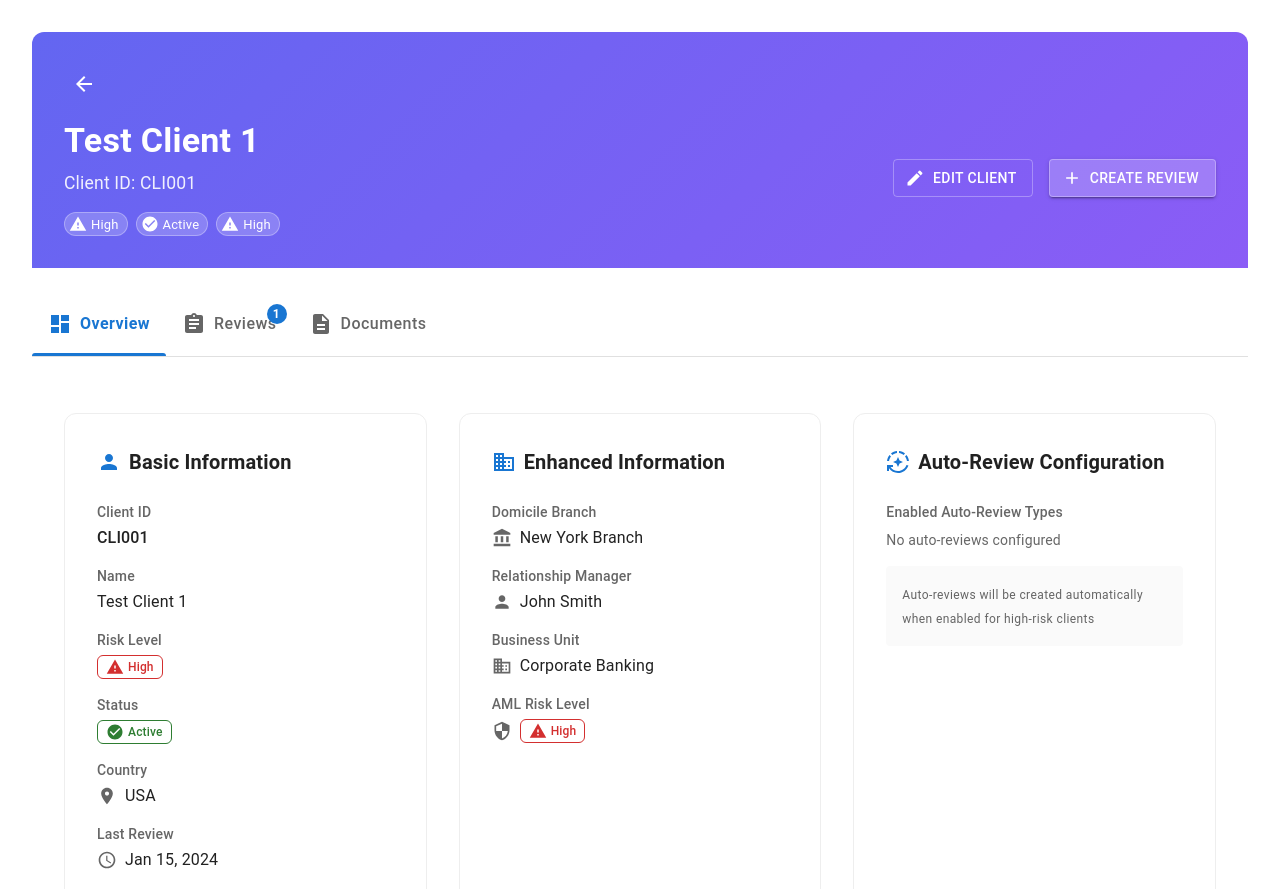
Enhanced Client Components - Requirements Testing › ClientDetail - Enhanced Information Display (Requirements 1.1-1.5) › cancels editing without saving changes
The width and height of the screenshot is (1280, 889).
Click the button "Edit Client" at (963, 178), box left=893, top=159, right=1033, bottom=197
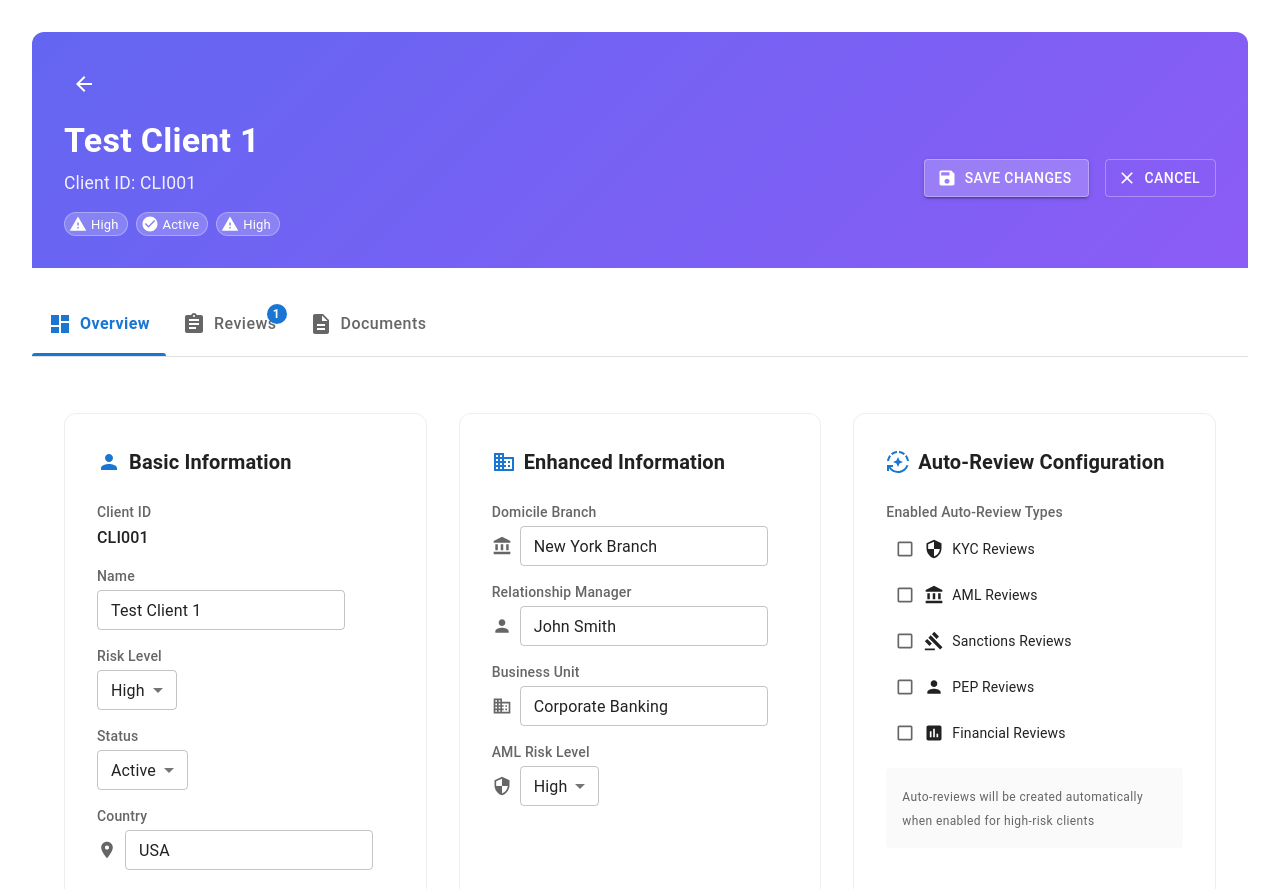
# Edit a field
Replace the text in the field showing "New York Branch" below "Domicile Branch" with "London Branch" at (644, 546), box left=520, top=526, right=768, bottom=566
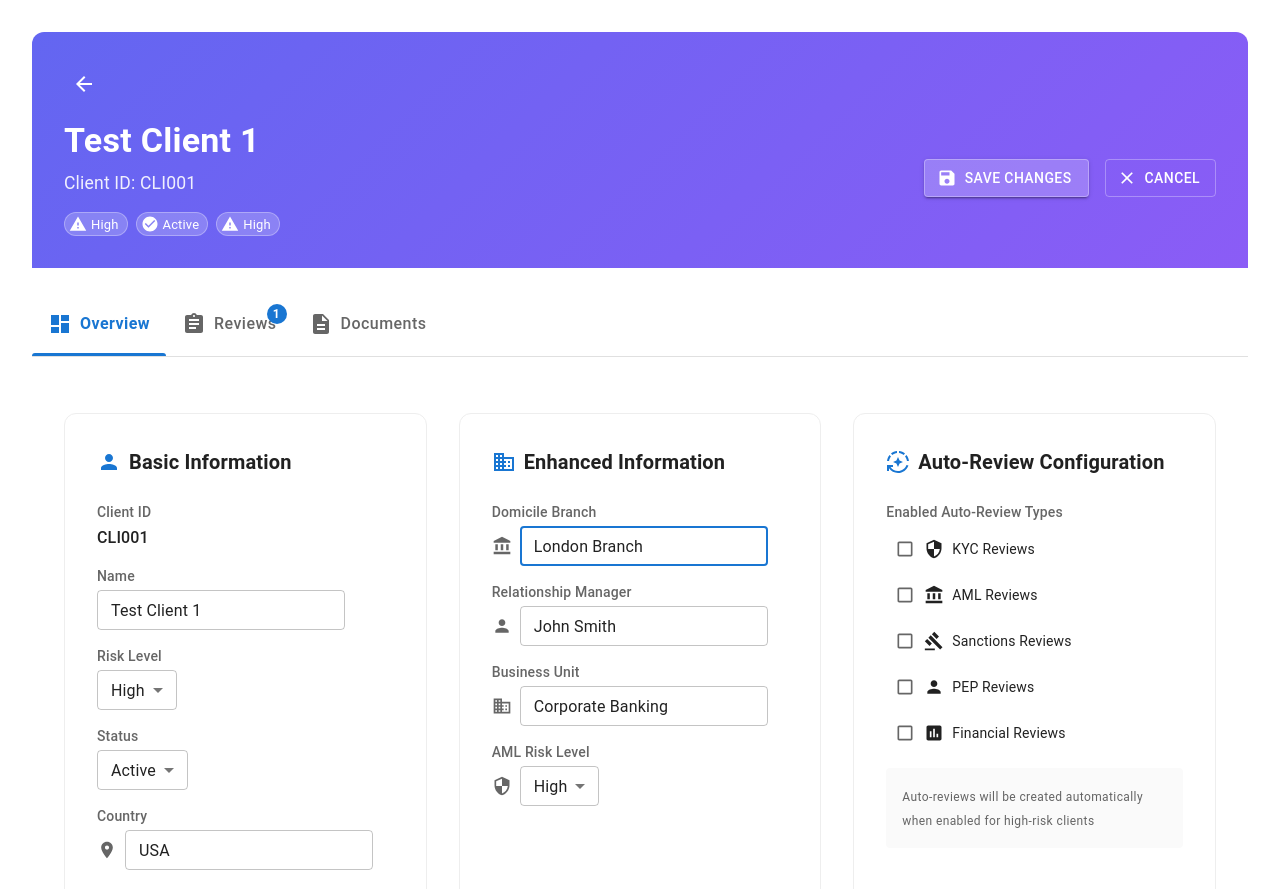
# Cancel editing
Click the button "Cancel" at (1160, 178), box left=1104, top=159, right=1216, bottom=197
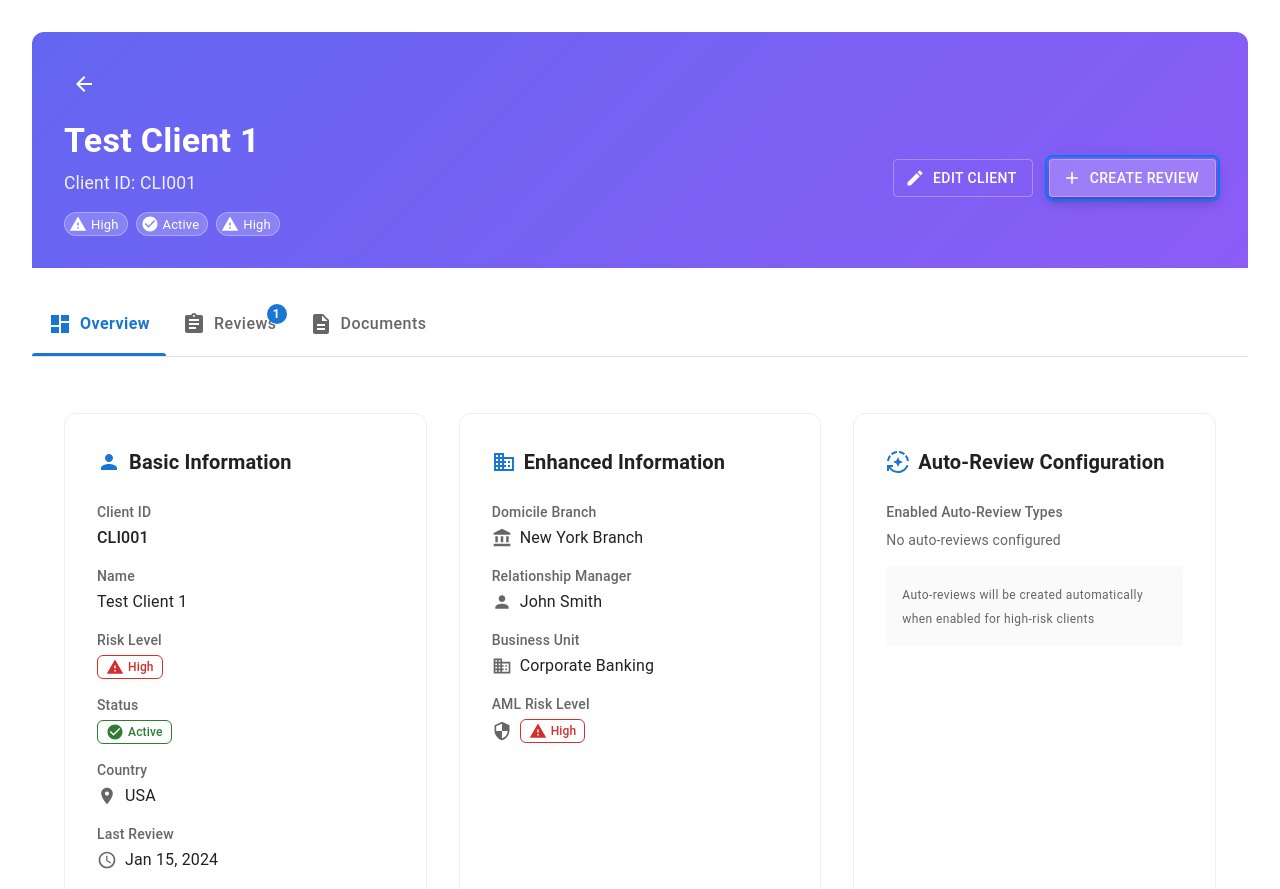
Expected: the button "Edit Client" is shown, left=893, top=159, right=1033, bottom=197
